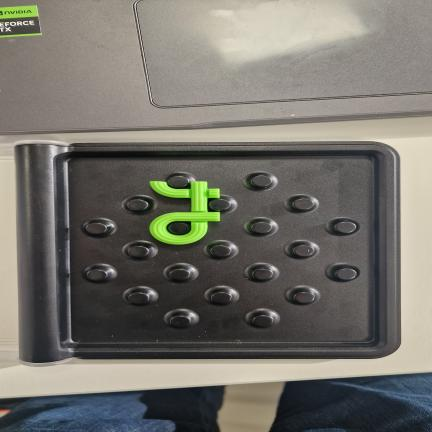K_YellowGreen: (150, 182, 220, 244)
board: (15, 142, 400, 366)
hinge: (17, 140, 67, 364)
pin: (334, 221, 357, 234), (168, 175, 190, 188), (168, 222, 190, 235), (127, 245, 149, 258), (293, 291, 315, 304), (128, 292, 151, 304), (251, 175, 272, 188), (293, 198, 314, 211), (86, 222, 107, 235), (169, 268, 190, 281), (211, 291, 232, 304), (170, 315, 191, 328), (127, 199, 149, 211), (210, 245, 232, 257), (293, 245, 315, 257), (335, 268, 357, 280), (210, 199, 231, 211), (86, 269, 107, 281), (252, 268, 273, 280), (253, 315, 274, 327), (251, 222, 272, 233)
